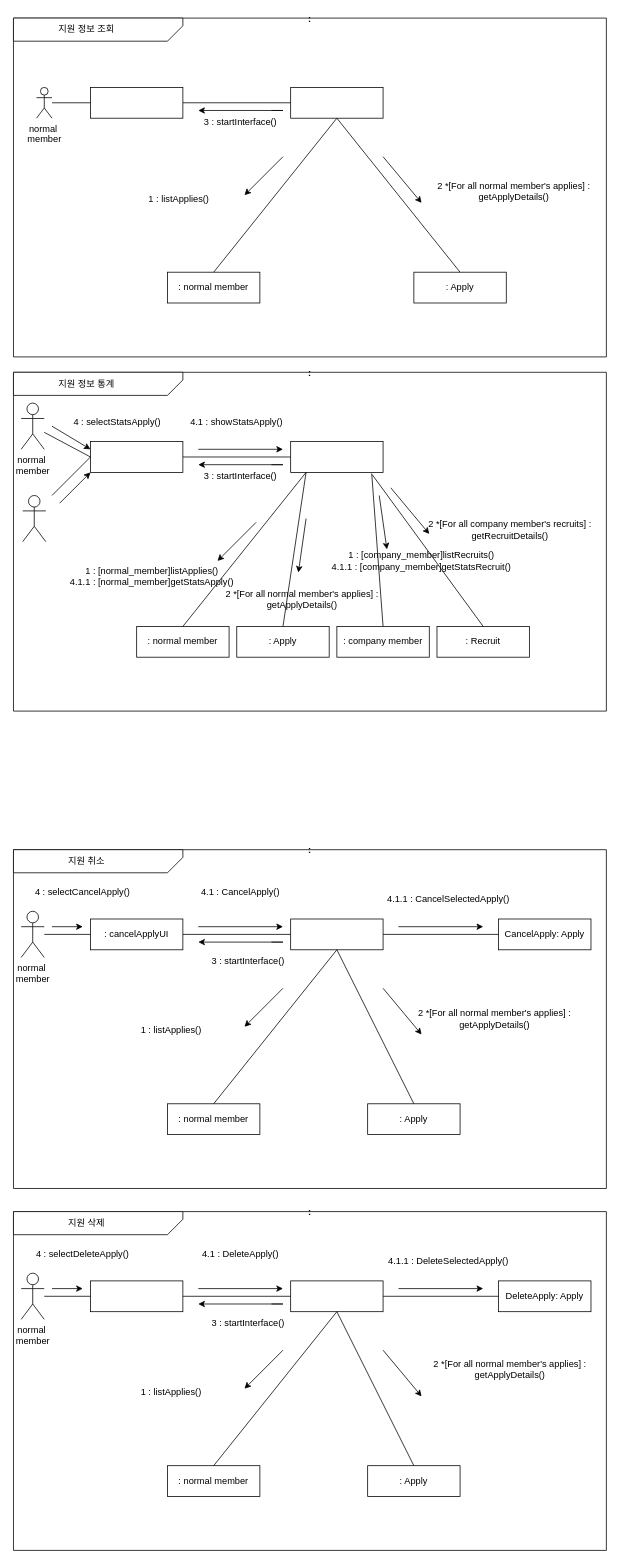
This 620x1564 diagram has some shape labels left out. The shapes that lost their labels are listed below. From the top down, each one's box as (x1, y1, x2, y2) in pixels, then its label:
(90, 87, 183, 118): : viewApplyUI
(290, 87, 383, 118): : viewApply
(90, 441, 183, 472): : statsApplyUI
(290, 441, 383, 472): : statsApply
(22, 495, 46, 542): company member
(290, 918, 383, 950): : cancelApply
(90, 1280, 183, 1312): : deleteApplyUI
(290, 1280, 383, 1312): : deleteApply
